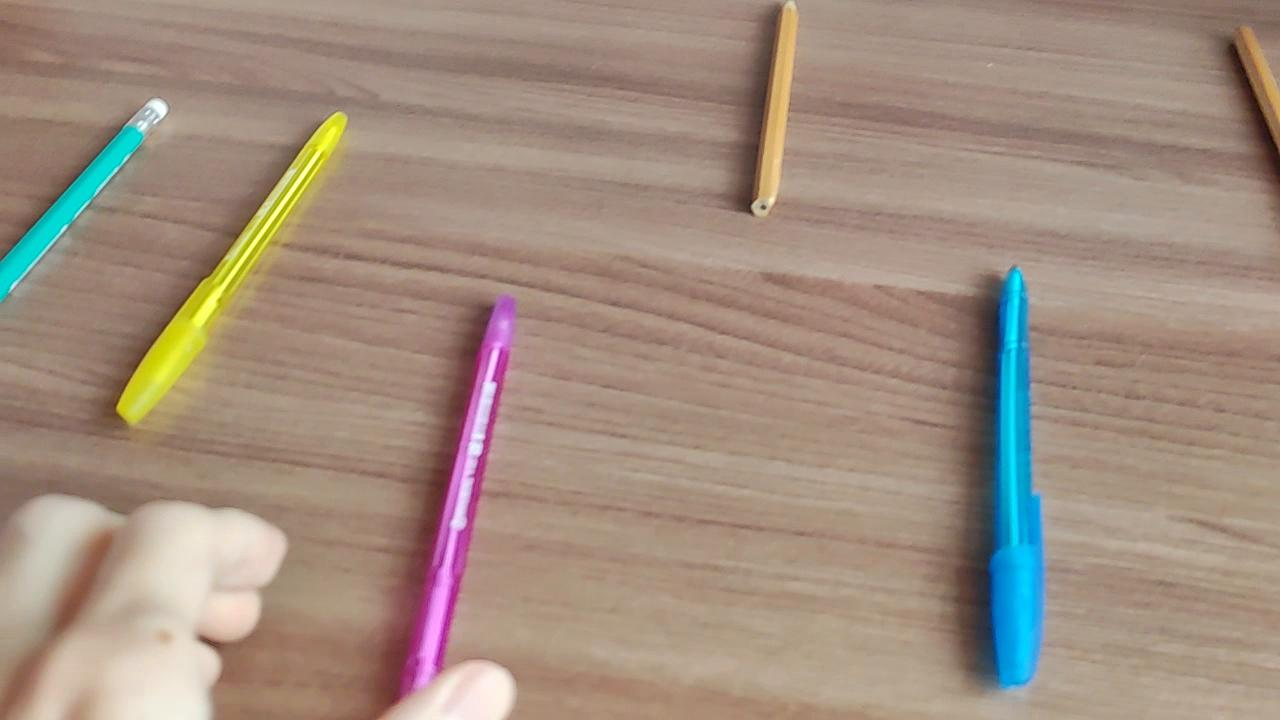pen: (112, 112, 353, 433), (397, 295, 524, 703), (984, 262, 1052, 695)
pencil: (0, 93, 177, 307), (741, 0, 804, 219), (1223, 20, 1280, 166)
